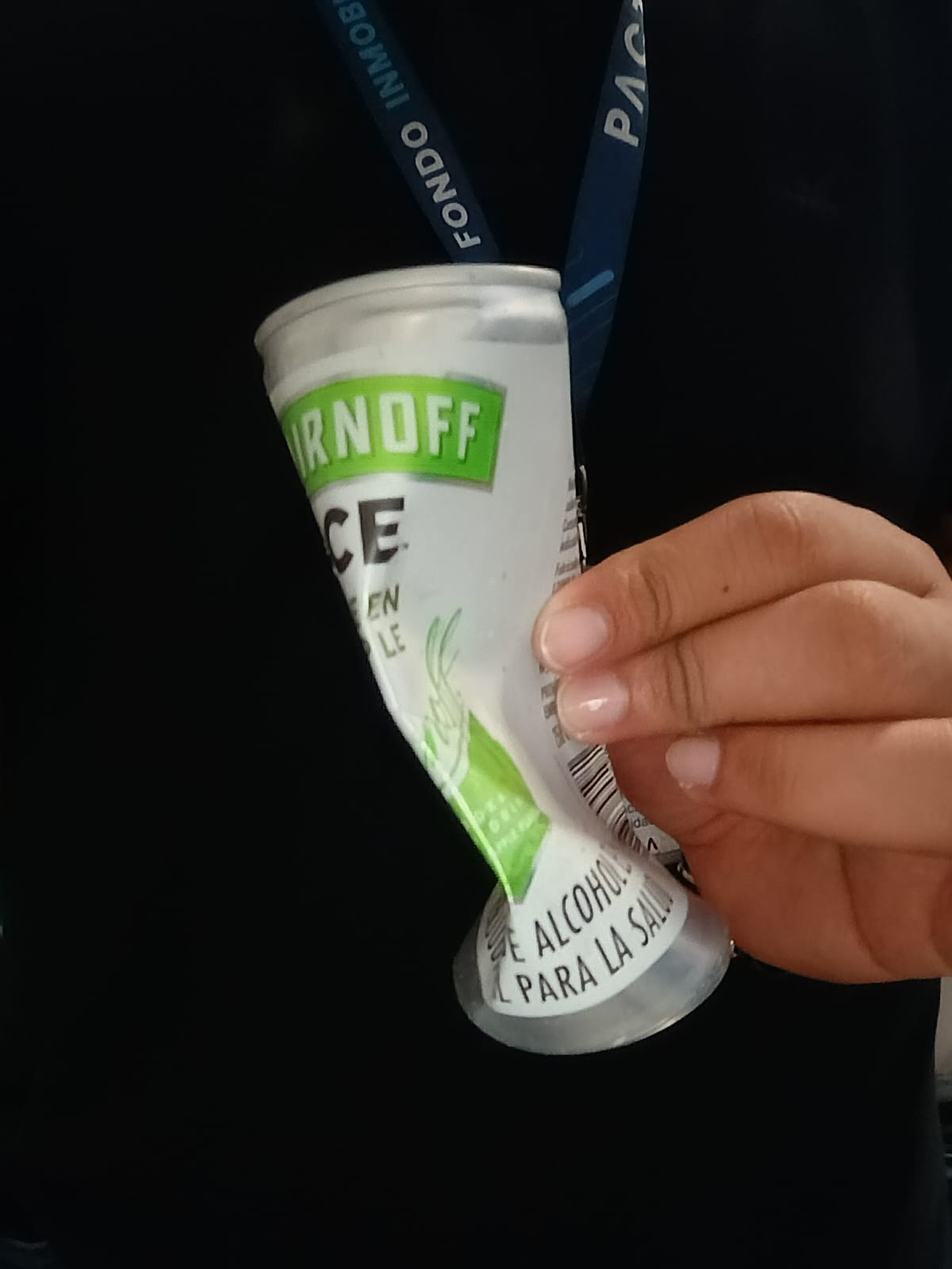Metal: (258, 262, 728, 1051)
